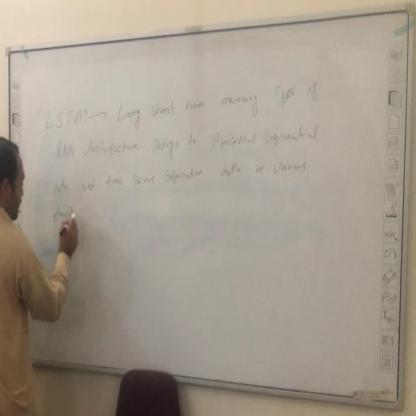Handwritten text: (37, 76, 325, 139), (49, 152, 319, 201), (48, 120, 326, 163)
